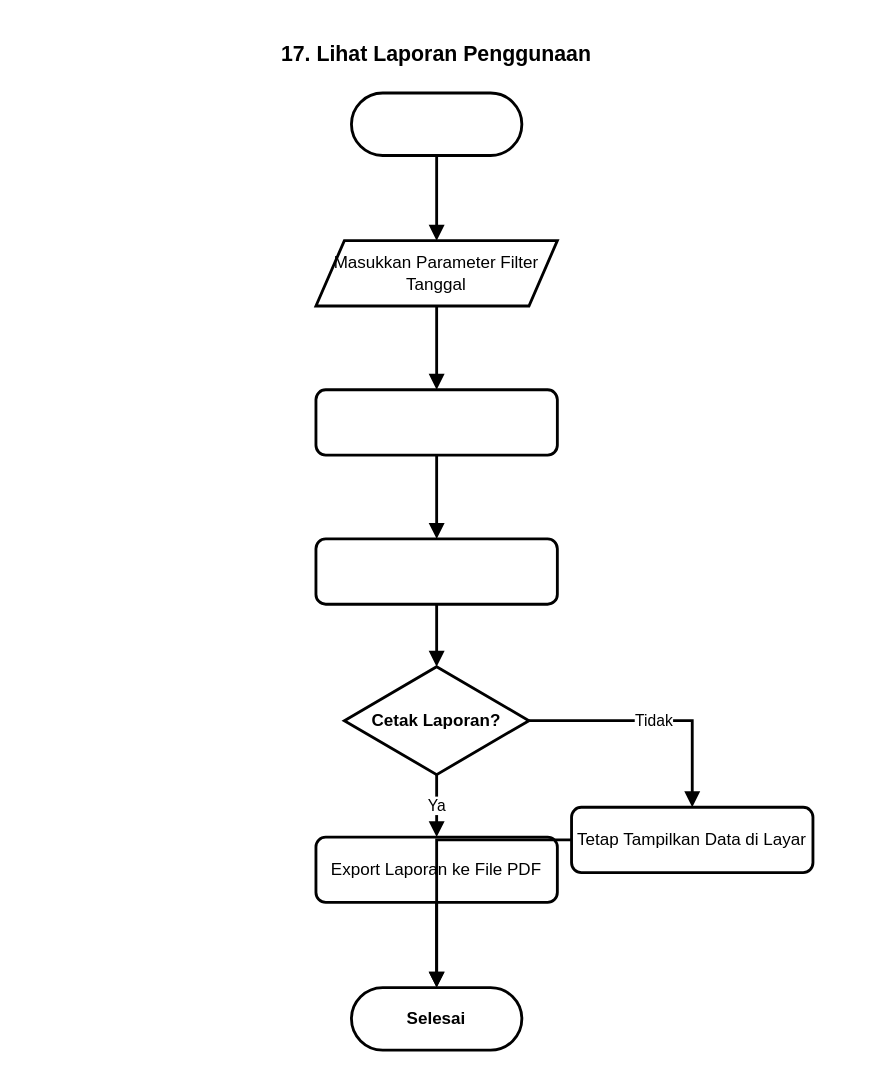
Image size: 872x1075. Some labels were removed from this diagram. The shapes that lost their labels are listed below. From the top down, each one's centre as x and y in pixels, then its label:
pixel 436 123: Mulai
pixel 436 422: Query Okupansi & Pemasukan Sewa
pixel 436 571: Tampilkan Tabel Data & Chart Okupansi
